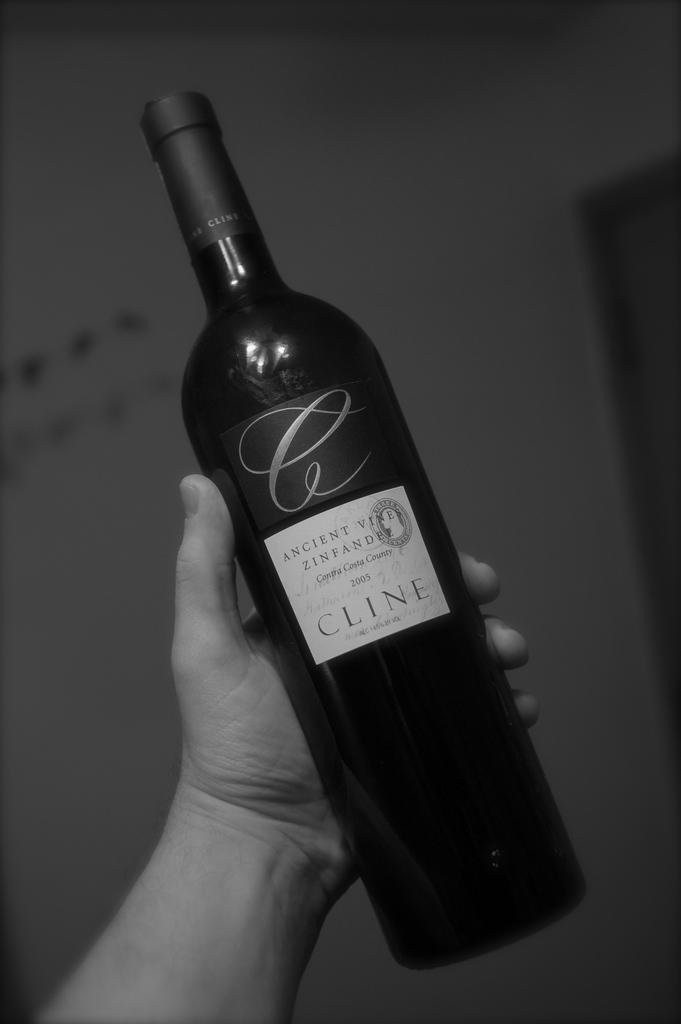bottle-glass: (139, 84, 584, 973)
